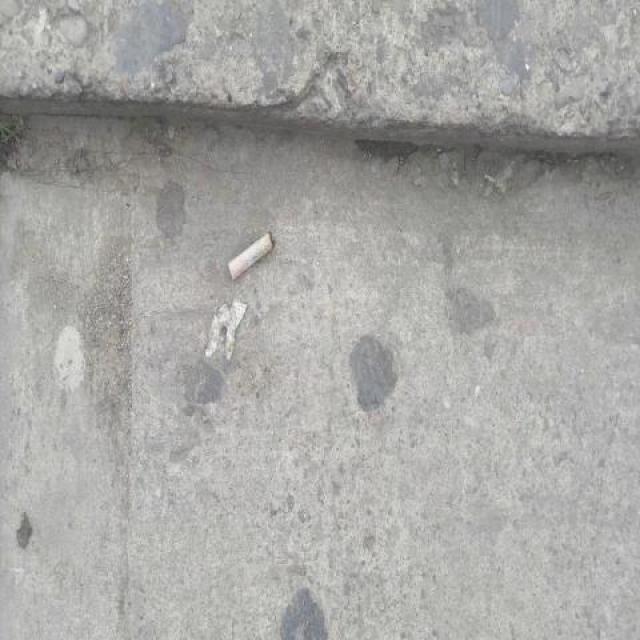non-organic waste: (225, 225, 279, 286)
